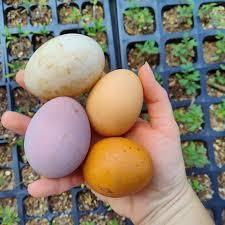egg: (20, 32, 106, 101), (24, 98, 92, 179), (84, 138, 157, 208), (88, 70, 144, 136)
